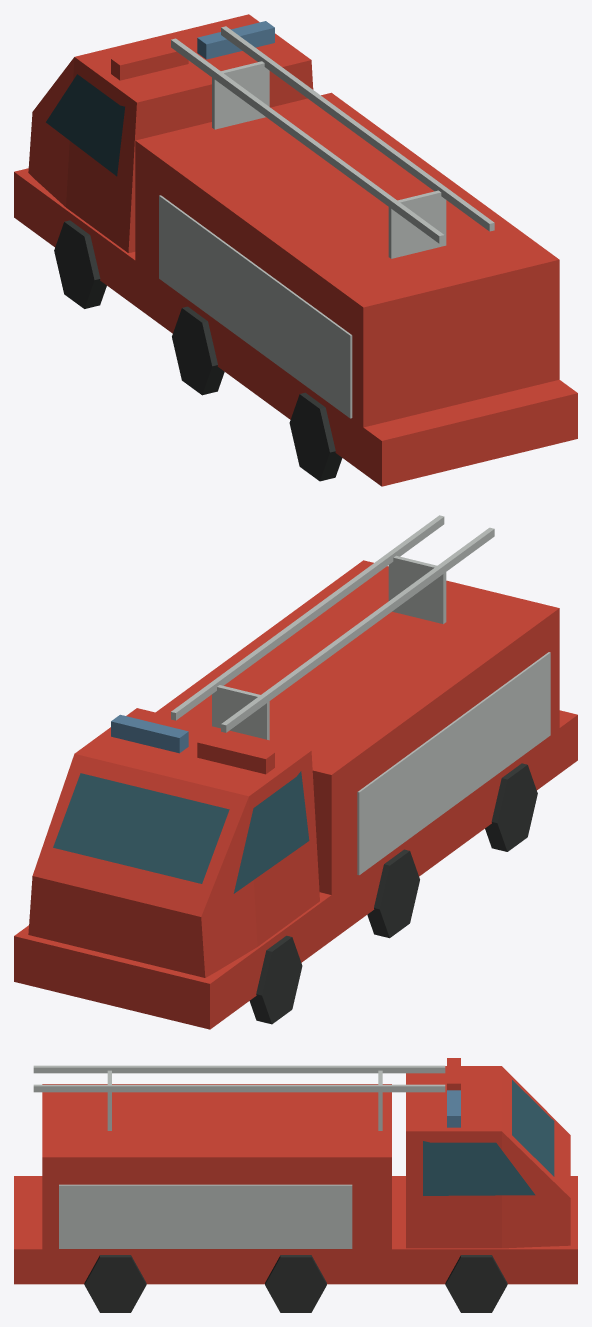
Rendered from fire_engine_far.glb.
The picture shows the model from 3 angles, top to bottom: view 1: azimuth 30°, elevation 25°; view 2: azimuth 150°, elevation 25°; view 3: azimuth 270°, elevation 25°; orthographic projection. The views are drawn at different scales.
Parts seen in each view (by area): view 1: FireEngineModel traffic_red, FireEngineModel traffic_metal, FireEngineModel traffic_rubber, FireEngineModel traffic_glass, Emergency beacon.001; view 2: FireEngineModel traffic_red, FireEngineModel traffic_metal, FireEngineModel traffic_glass, FireEngineModel traffic_rubber, Emergency beacon.001; view 3: FireEngineModel traffic_red, FireEngineModel traffic_metal, FireEngineModel traffic_rubber, FireEngineModel traffic_glass, Emergency beacon.001.
Part boxes in pixels (x1,y1,x2,y2): FireEngineModel traffic_red: [14, 14, 577, 486]; FireEngineModel traffic_metal: [159, 26, 494, 418]; FireEngineModel traffic_rubber: [54, 220, 342, 481]; FireEngineModel traffic_glass: [46, 74, 124, 176]; Emergency beacon.001: [197, 21, 274, 59]; FireEngineModel traffic_red: [14, 560, 577, 1029]; FireEngineModel traffic_metal: [171, 515, 550, 875]; FireEngineModel traffic_glass: [53, 771, 309, 893]; FireEngineModel traffic_rubber: [249, 763, 537, 1024]; Emergency beacon.001: [111, 714, 188, 753]; FireEngineModel traffic_red: [14, 1058, 577, 1284]; FireEngineModel traffic_metal: [33, 1065, 445, 1248]; FireEngineModel traffic_rubber: [84, 1255, 507, 1312]; FireEngineModel traffic_glass: [423, 1080, 554, 1195]; Emergency beacon.001: [447, 1090, 460, 1127].
Size of the model in its own units: 2.68 by 3.18 by 8.21.
